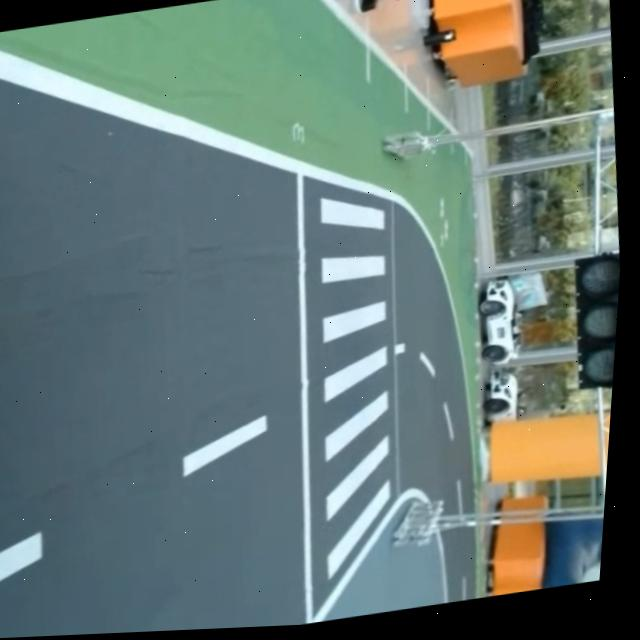traffic-light: (562, 249, 622, 397)
